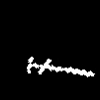double_crochet: (27, 57, 93, 76)
